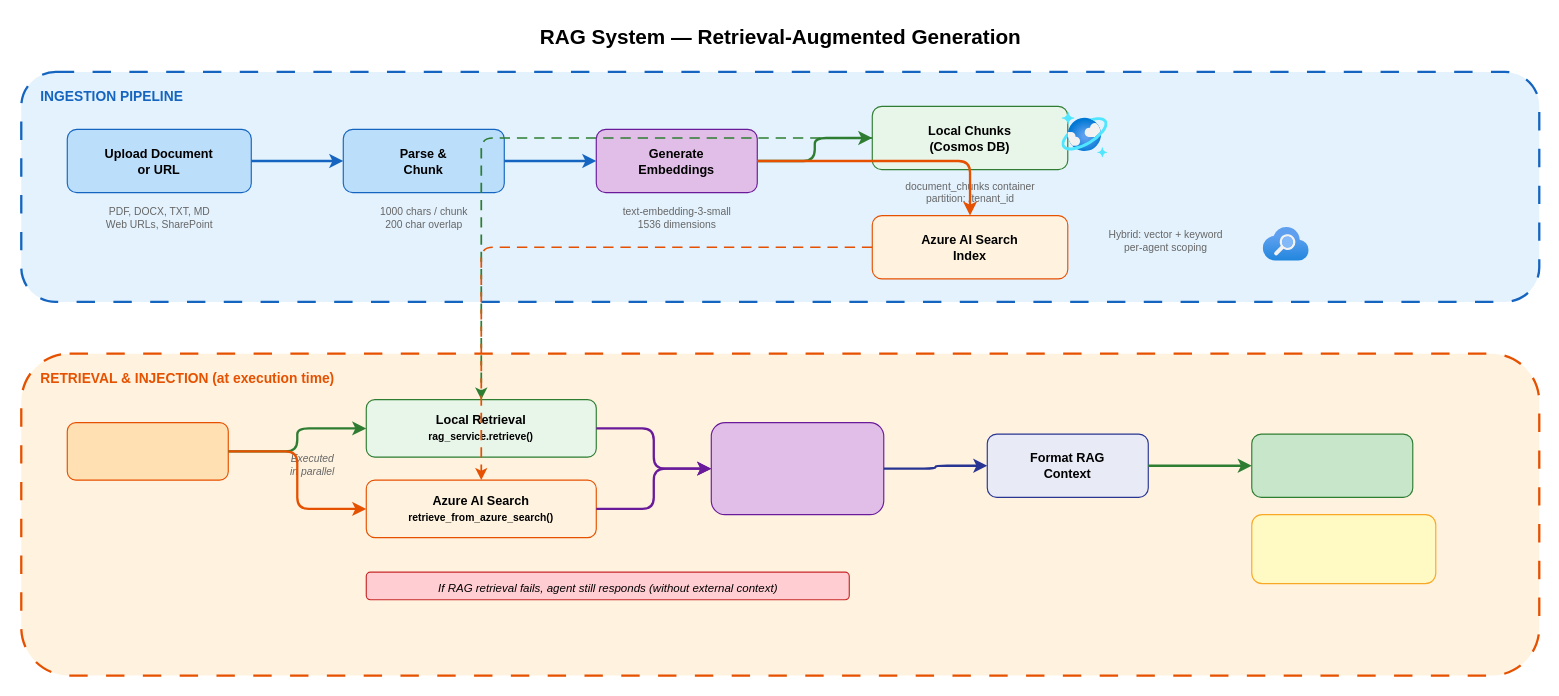
The diagram is 1559 pixels wide and 696 high, and some of its shapes have lost their labels. The centre of each missing label's shape, as x and y in pixels:
Inject into Agent Prompt: pixel 1332 465
Merge & Rank Chunks: pixel 797 468
User Message: pixel 147 450
{system_prompt} + RAG context chunks + user_message → LLM: pixel 1343 548
